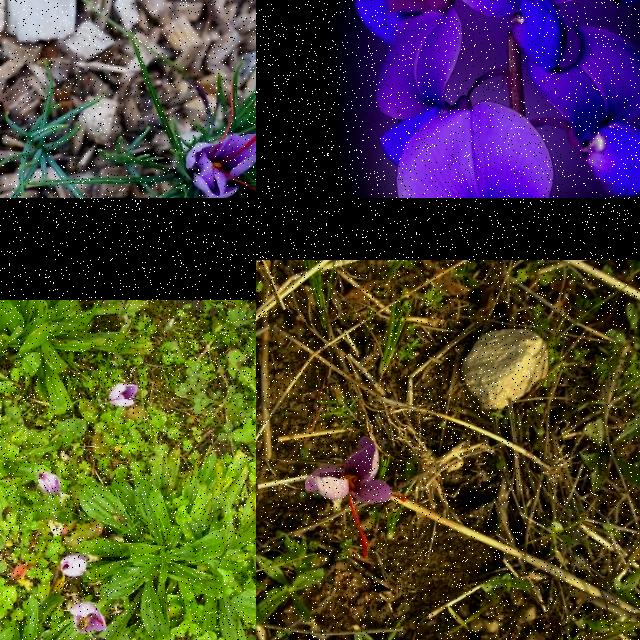flower: (304, 437, 408, 558), (186, 82, 256, 198), (67, 602, 107, 634), (106, 383, 138, 407), (60, 554, 88, 578), (38, 472, 62, 498)
